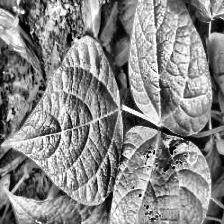ALS: (6, 40, 111, 202), (106, 131, 209, 224)
